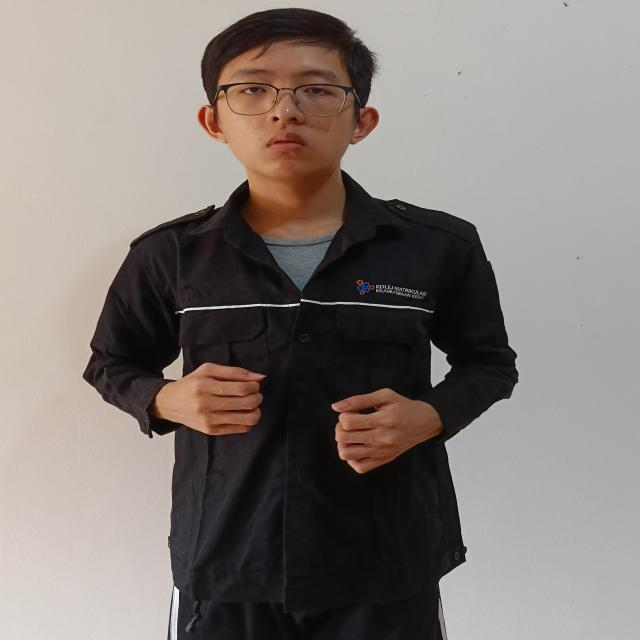person_with_labcoat: (84, 8, 517, 640)
